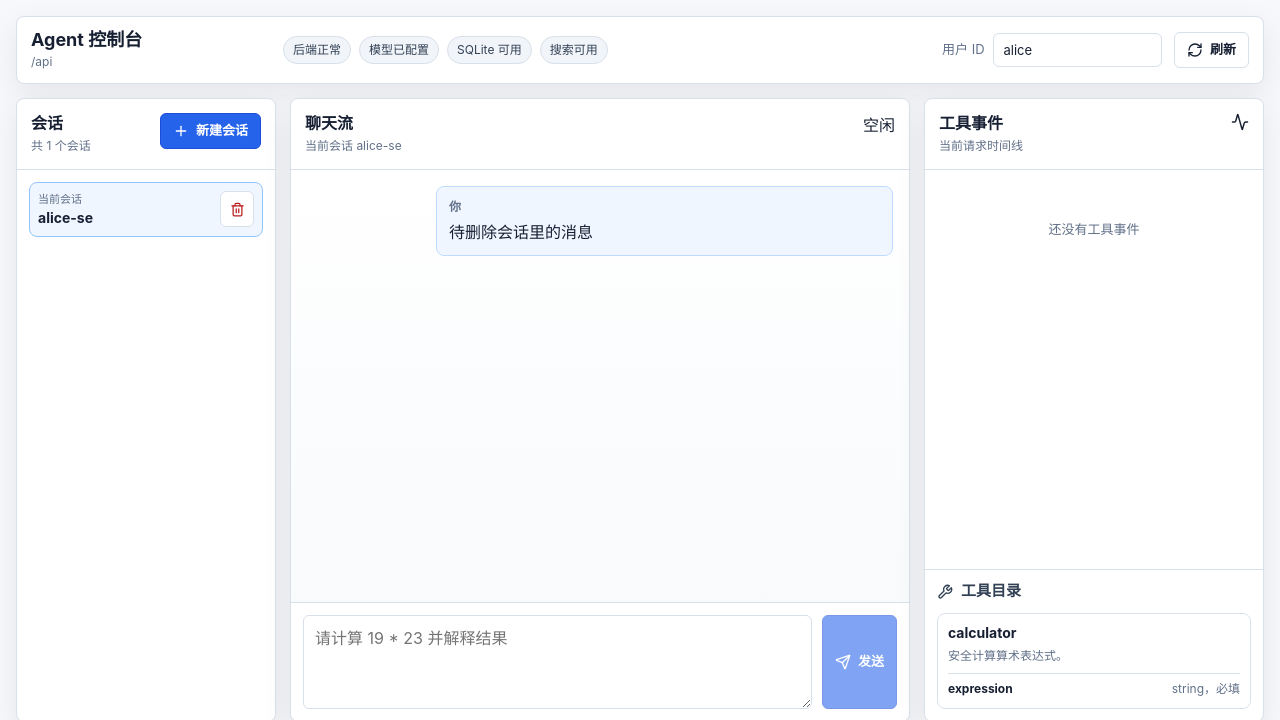
Test case: Agent 控制台 › 删除选中的 204 会话后更新列表并清空聊天记录
This screenshot has width=1280, height=720.
Expected: the text "待删除会话里的消息" is shown, [449, 222, 593, 242]
Step 1. Click the button named "删除会话 alice-se" → [237, 209], box [220, 191, 254, 227]
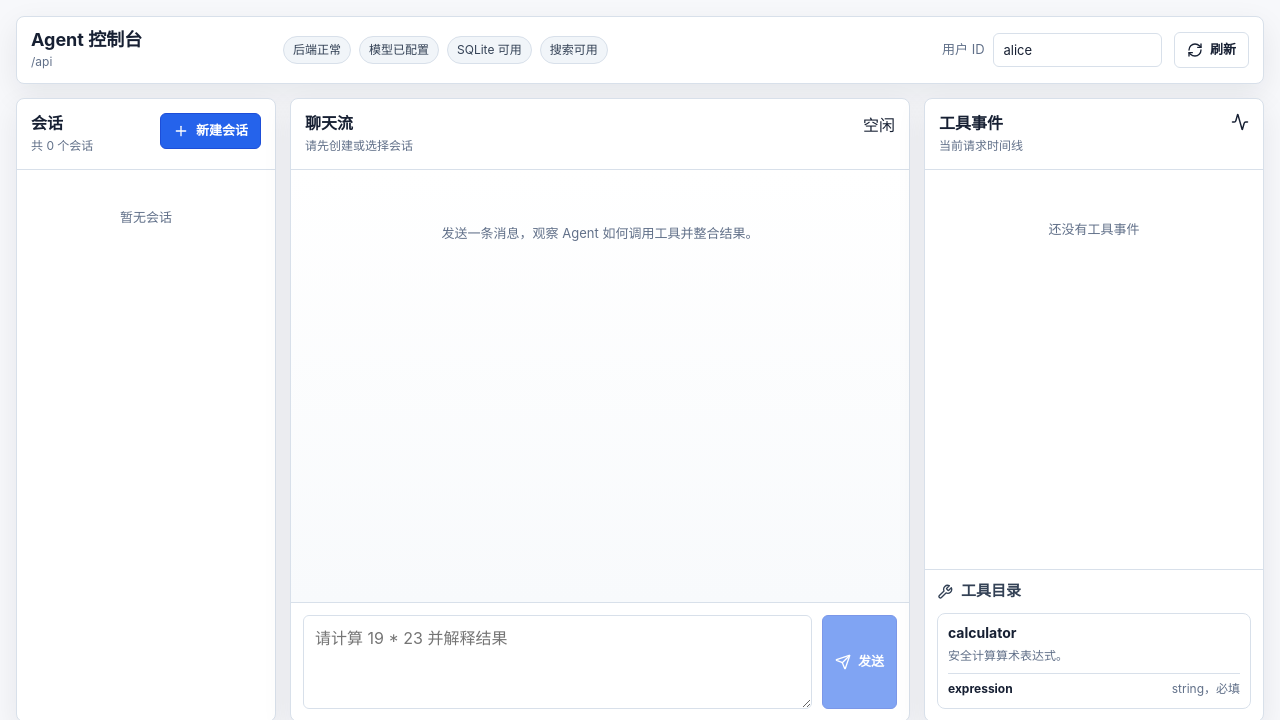
Expected: the text "暂无会话" is shown, [120, 209, 172, 225]
Expected: the text "待删除会话里的消息" is gone
